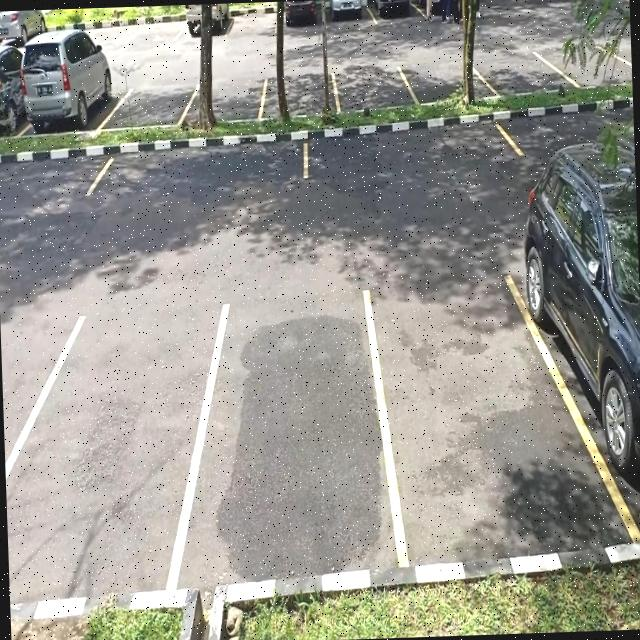empty: (188, 287, 394, 584), (2, 298, 196, 598), (377, 277, 556, 565), (302, 113, 516, 185), (92, 130, 308, 192), (108, 68, 190, 126), (406, 53, 488, 109), (190, 67, 266, 125), (262, 68, 340, 120), (332, 64, 410, 116), (483, 50, 560, 96)
occupied: (541, 178, 640, 548), (15, 42, 114, 132)
